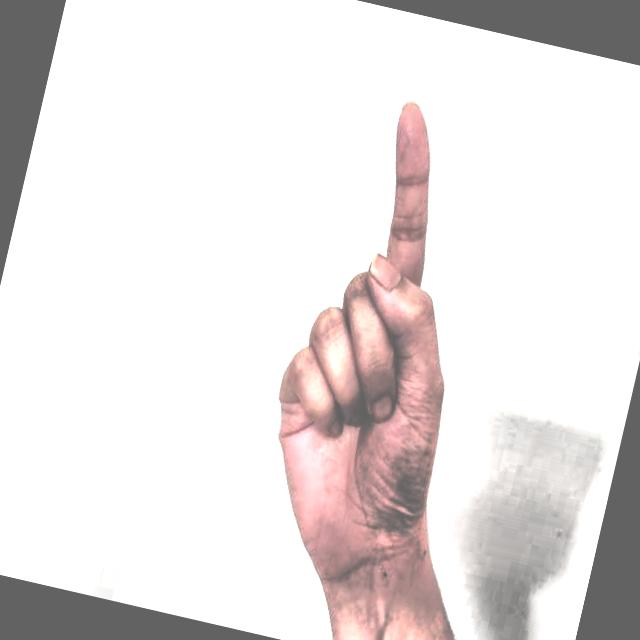U: (217, 58, 558, 604)
